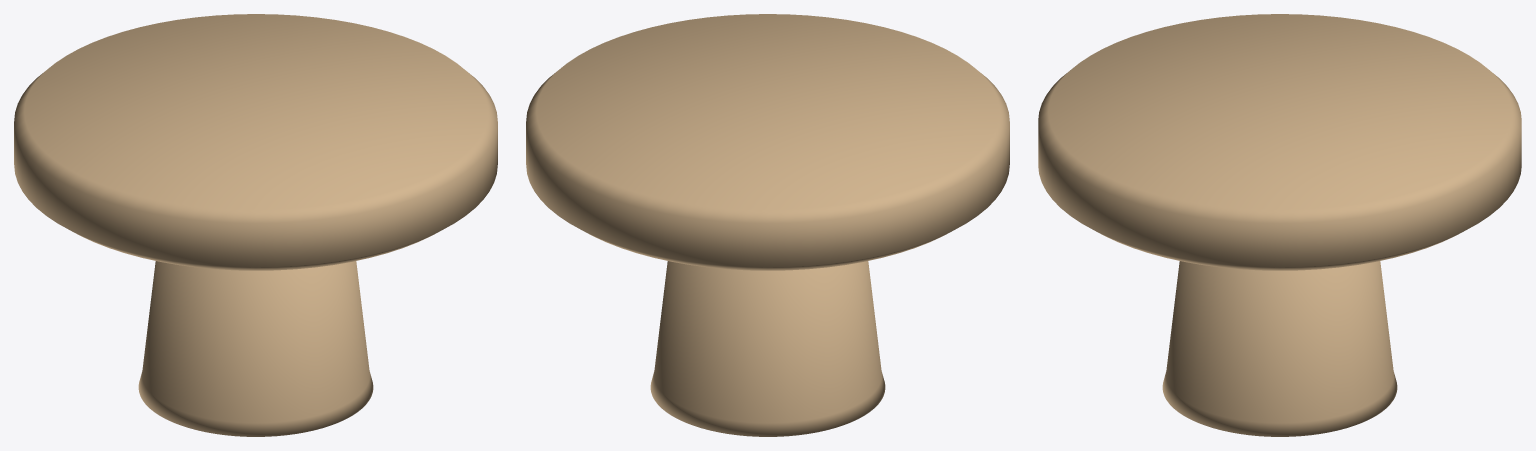
3 renders of one model, left to right at view 1: azimuth 30°, elevation 25°; view 2: azimuth 150°, elevation 25°; view 3: azimuth 270°, elevation 25°, orthographic.
Visible parts, largest first — view 1: ct62024-coffee-table; view 2: ct62024-coffee-table; view 3: ct62024-coffee-table.
Boxes of the visible parts, x1,y1,x2,y2 form: ct62024-coffee-table: (14,14,497,436); ct62024-coffee-table: (526,14,1009,436); ct62024-coffee-table: (1038,14,1521,436).
Size of the model in its own units: 0.7 by 0.44 by 0.7.
